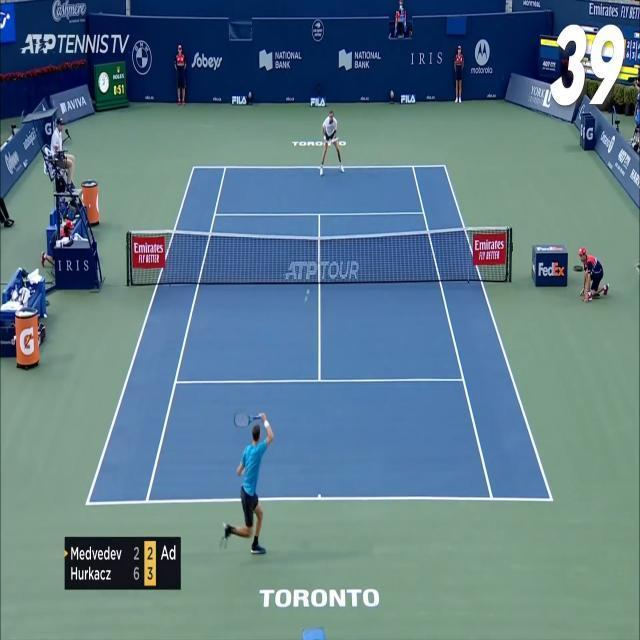court: (85, 164, 554, 506)
net: (126, 226, 513, 284)
player: (222, 410, 274, 556)
